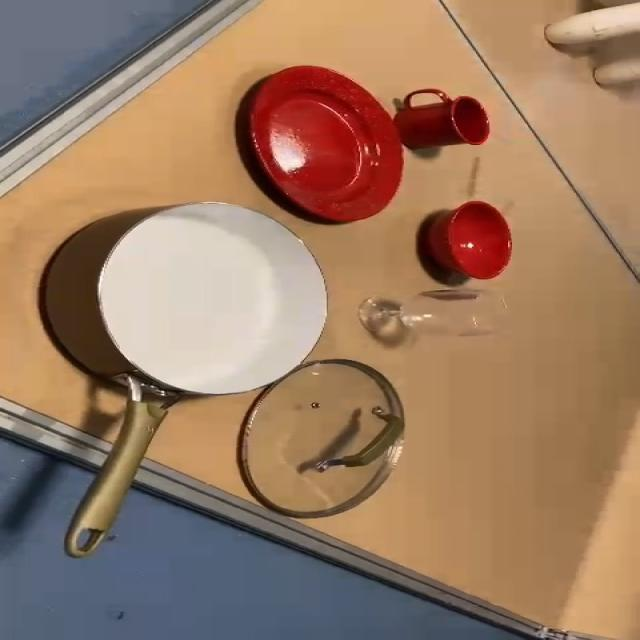Bowl: (438, 199, 517, 291)
Plate: (238, 67, 405, 223)
cup: (395, 87, 495, 150)
pot: (29, 201, 324, 536)
